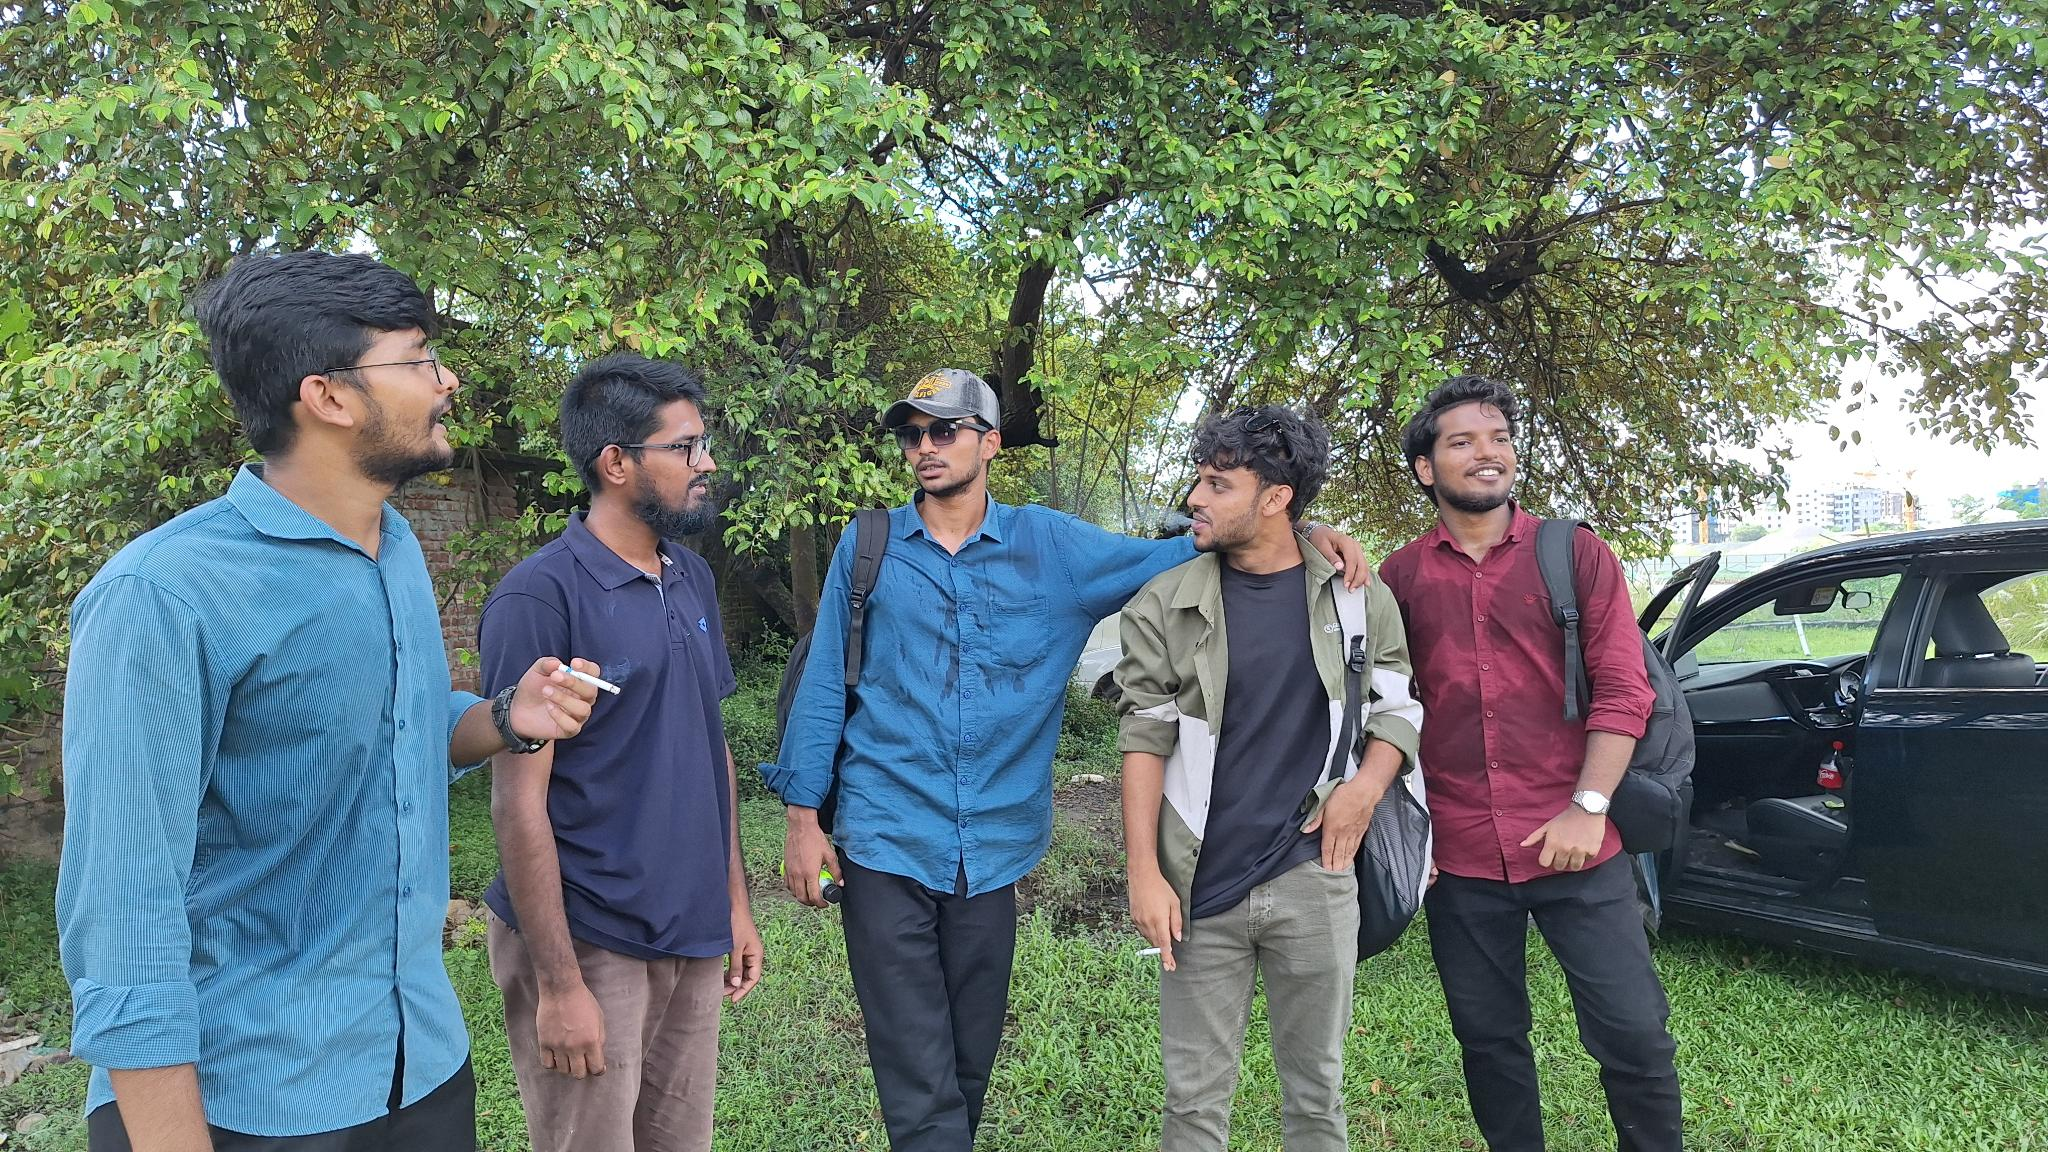cigarette: (557, 663, 623, 698), (1134, 947, 1162, 958)
nonSmoker: (755, 367, 1193, 1152), (1377, 376, 1695, 1152), (478, 360, 764, 1152)
smoker: (53, 253, 599, 1152), (1114, 407, 1432, 1152)
